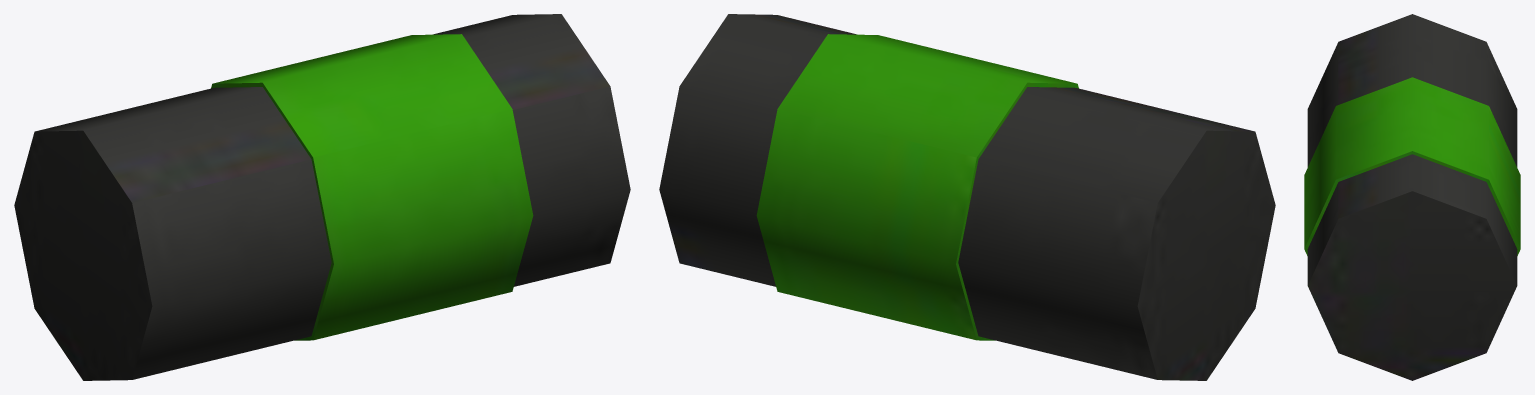
Rendered from nuclear-fuel.glb.
3 renders of one model, left to right at view 1: azimuth 30°, elevation 25°; view 2: azimuth 150°, elevation 25°; view 3: azimuth 270°, elevation 25°, orthographic. The views are drawn at different scales.
Parts seen in each view (by area): view 1: nuclear-fuel; view 2: nuclear-fuel; view 3: nuclear-fuel.
Part boxes in pixels (x1,y1,x2,y2): nuclear-fuel: (14, 14, 630, 380); nuclear-fuel: (659, 14, 1275, 380); nuclear-fuel: (1304, 14, 1520, 380).
Bounding box in the file's own units: 0.24 × 0.124 × 0.124.
Materials: 1 (1 with a texture image).
